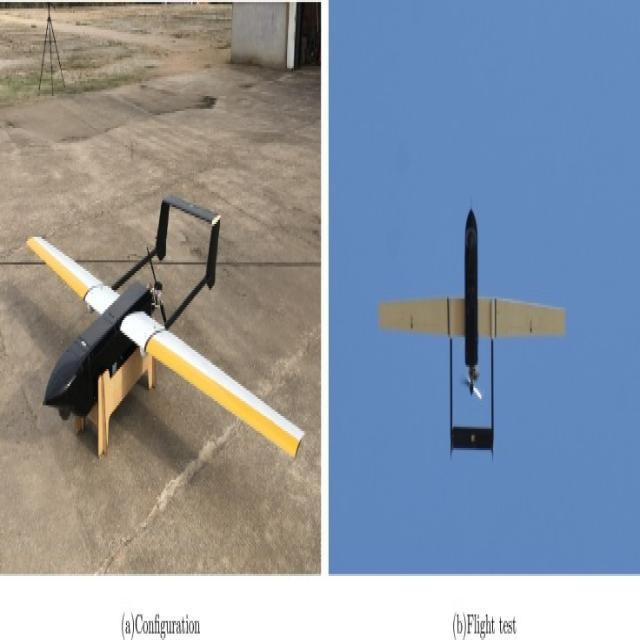iha: (18, 179, 306, 486)
